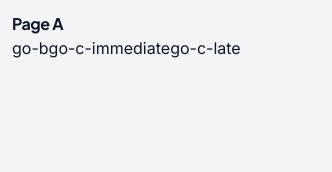
Scenario: SPA scroll behavior › scrolls into the element when the hash anchor mounts late
Click the link "go-c-late" at (205, 48), box top-left (170, 38), bottom-right (241, 58)
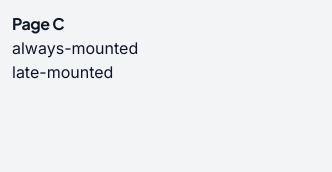
Expected: the text "late-mounted" is shown, top-left (12, 62), bottom-right (113, 82)
